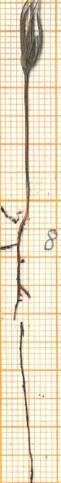flower: (9, 0, 50, 74)
root: (0, 218, 37, 483)
stem: (18, 75, 36, 219)
